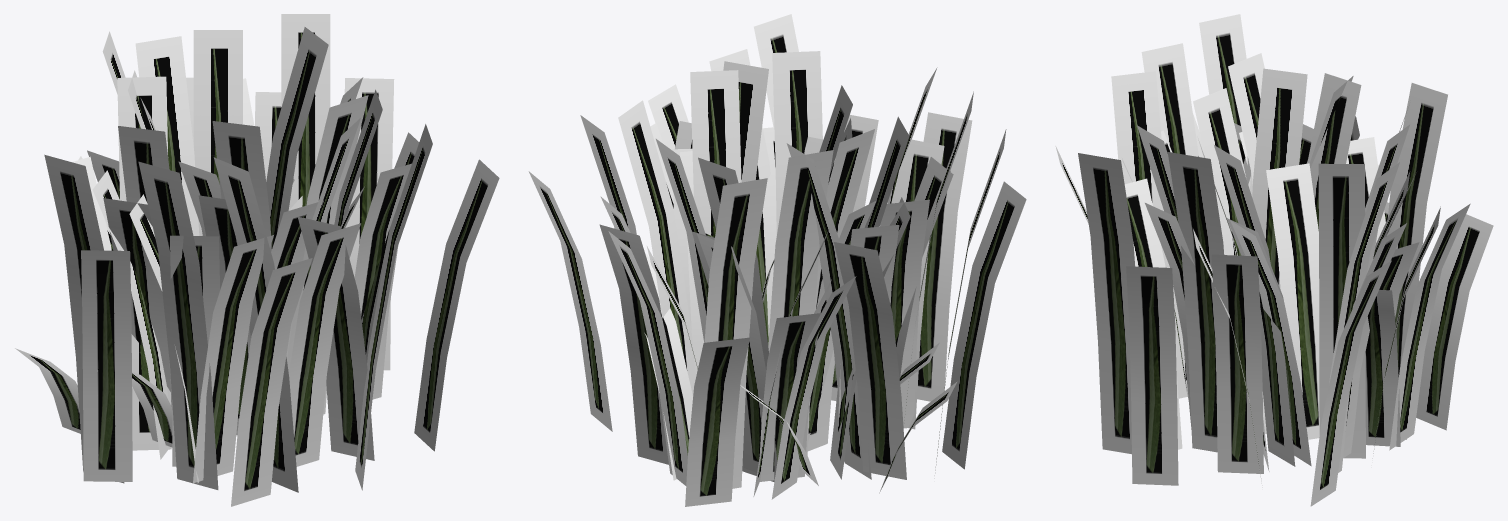
The model's file is simple_grass.obj.
3 views of the same model, side by side, from view 1: azimuth 30°, elevation 25°; view 2: azimuth 150°, elevation 25°; view 3: azimuth 270°, elevation 25° (orthographic). The views are drawn at different scales.
Parts seen in each view (by area): view 1: pPlane46_Mesh.039; view 2: pPlane46_Mesh.039; view 3: pPlane46_Mesh.039.
Part boxes in pixels (x1,y1,x2,y2): pPlane46_Mesh.039: [15, 14, 499, 506]; pPlane46_Mesh.039: [528, 14, 1026, 506]; pPlane46_Mesh.039: [1055, 14, 1493, 506].
Bounding box in the file's own units: 0.8805 × 0.6918 × 0.8515.
Materials: 1 (1 with a texture image).
